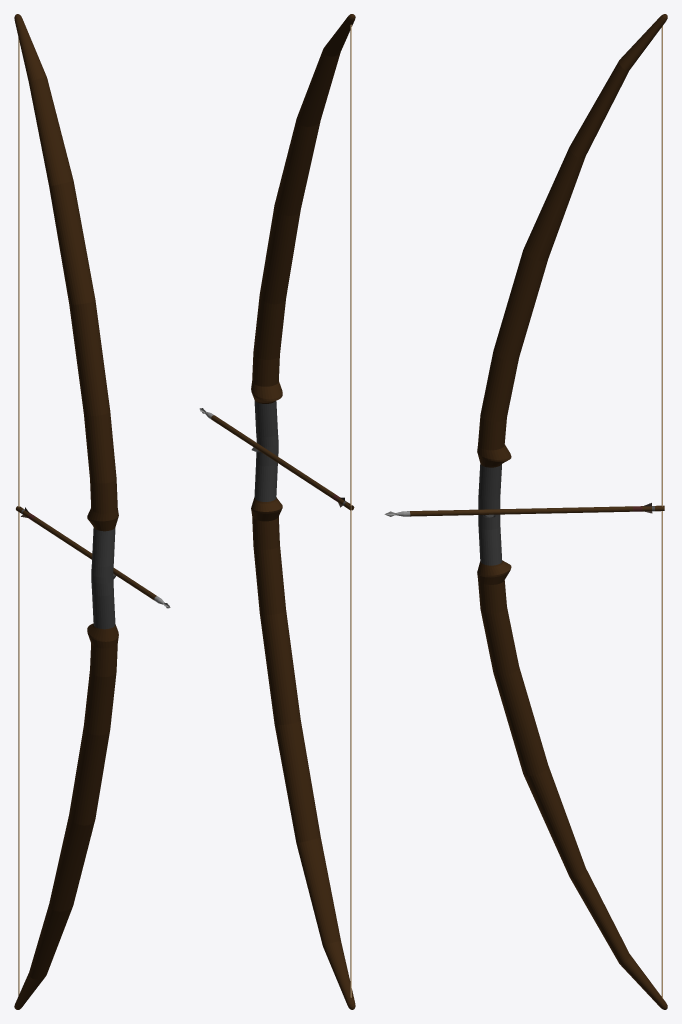
The model's file is shortbow.fbx.
The picture shows the model from 3 angles, left to right: view 1: azimuth 30°, elevation 25°; view 2: azimuth 210°, elevation 25°; view 3: azimuth 270°, elevation 25°; orthographic projection.
Parts seen in each view (by area): view 1: shortbow, arrow; view 2: shortbow, arrow; view 3: shortbow, arrow.
Boxes of the visible parts, <box> form: shortbow: <box>14,14,118,1009</box>; arrow: <box>16,506,170,608</box>; shortbow: <box>251,14,355,1009</box>; arrow: <box>199,408,354,510</box>; shortbow: <box>477,14,667,1009</box>; arrow: <box>384,503,664,516</box>.
Size of the model in its own units: 72.32 by 2453 by 633.
